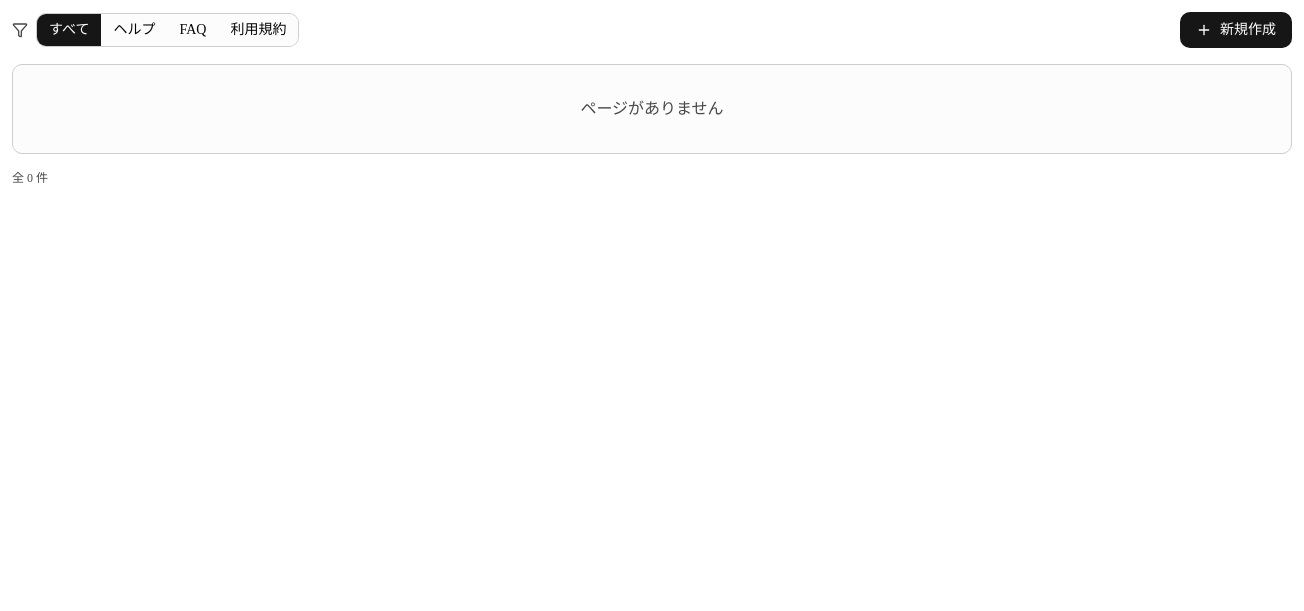
Test: CmsPageList › shows form validation error for empty slug/title
Step 1. Click the button "新規作成" → coordinates (1236, 30), box [1180,12,1292,48]
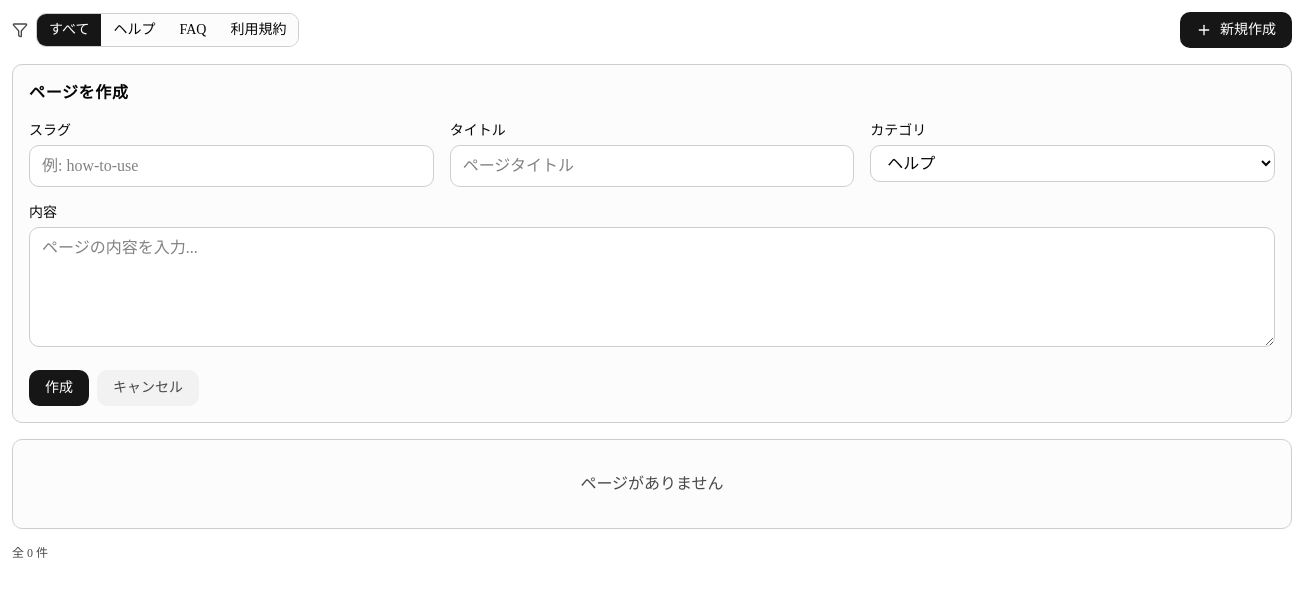
Step 2. Click the button "作成" → coordinates (59, 388), box [29,370,89,406]
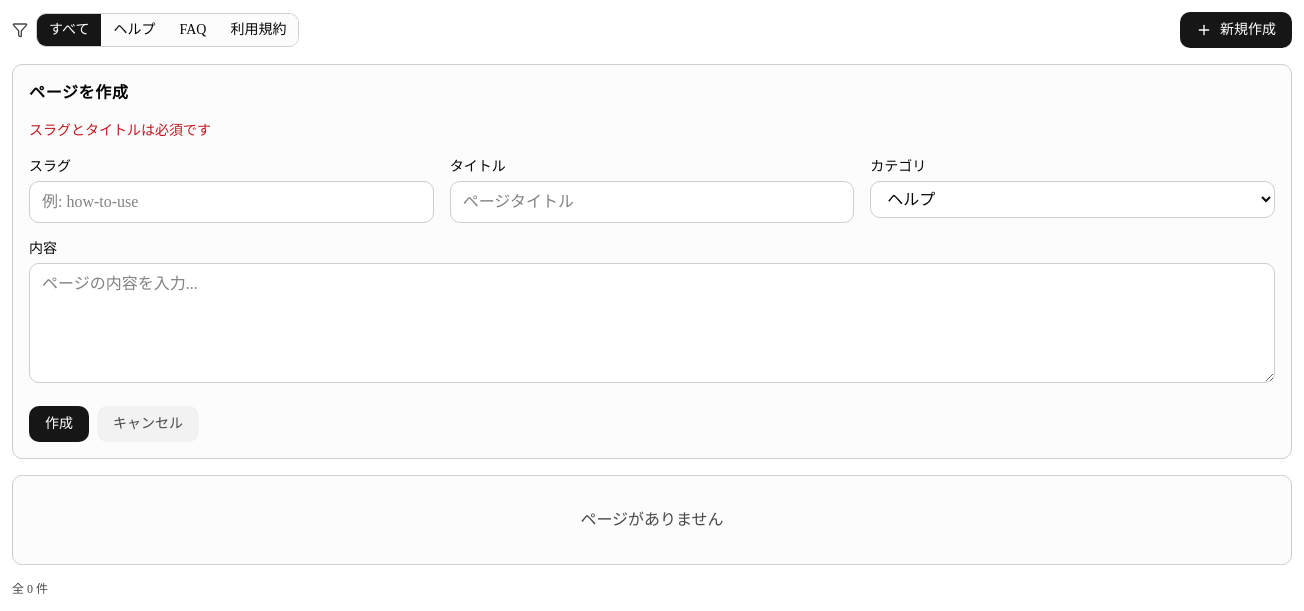
Expected: the text "スラグとタイトルは必須です" is shown, [29,123,211,138]
